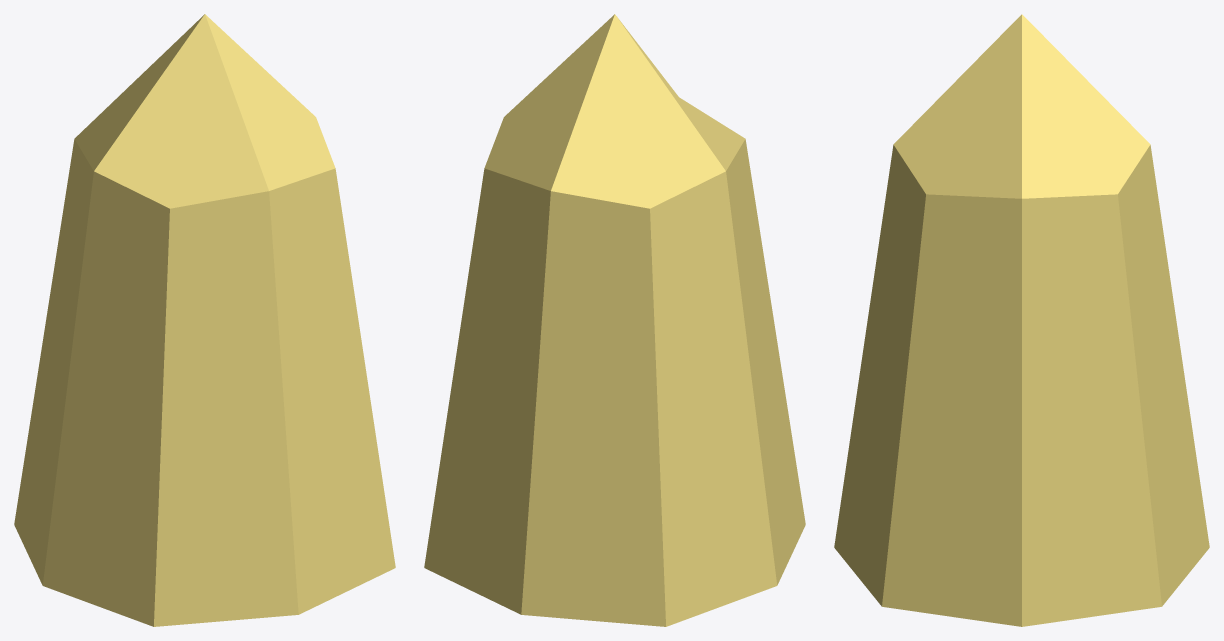
Rendered from Aztec Mining Game Crystal Single.fbx.
3 renders of one model, left to right at view 1: azimuth 30°, elevation 25°; view 2: azimuth 150°, elevation 25°; view 3: azimuth 270°, elevation 25°, orthographic.
Parts seen in each view (by area): view 1: Crystal; view 2: Crystal; view 3: Crystal.
Boxes of the visible parts, left/top/right/bottom form: Crystal: left=14, top=14, right=395, bottom=626; Crystal: left=424, top=14, right=805, bottom=626; Crystal: left=834, top=14, right=1209, bottom=626.
Size of the model in its own units: 100 by 157 by 100.
